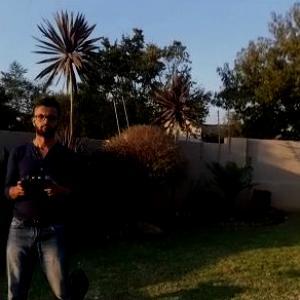follow: (0, 92, 92, 299)
